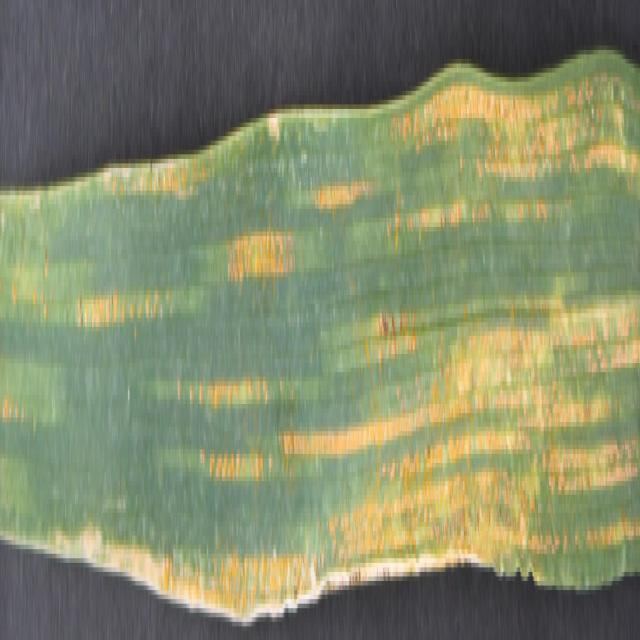leaf rust: (0, 72, 640, 621)
